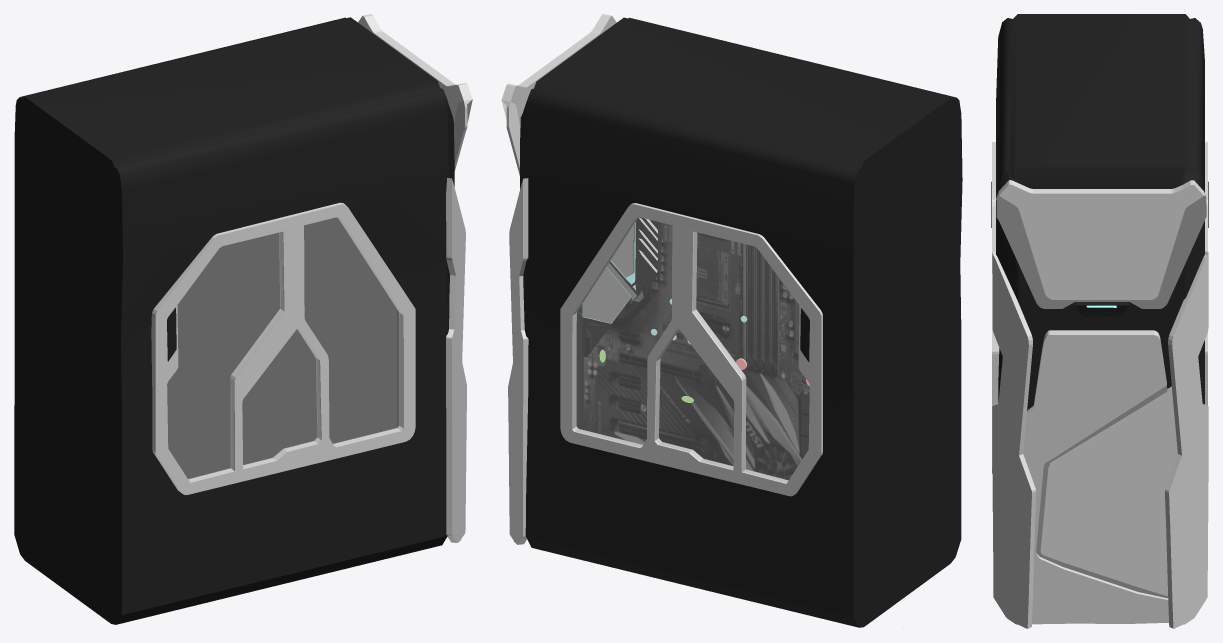
File: gaming_cpu.glb
The picture shows the model from 3 angles, left to right: view 1: azimuth 30°, elevation 25°; view 2: azimuth 150°, elevation 25°; view 3: azimuth 270°, elevation 25°; orthographic projection. The views are drawn at different scales.
Parts seen in each view (by area): view 1: cpu_0, Plane.001_2; view 2: cpu_0, Plane_3, Plane.002_4; view 3: cpu_0.
Part boxes in pixels (x1,y1,x2,y2): cpu_0: (14,14,472,624); Plane.001_2: (167,217,396,478); cpu_0: (501,14,962,627); Plane_3: (584,223,809,480); Plane.002_4: (582,217,661,356); cpu_0: (991,14,1208,628).
Size of the model in its own units: 3.73 by 4.92 by 2.02.
14 materials, 1 textured.
